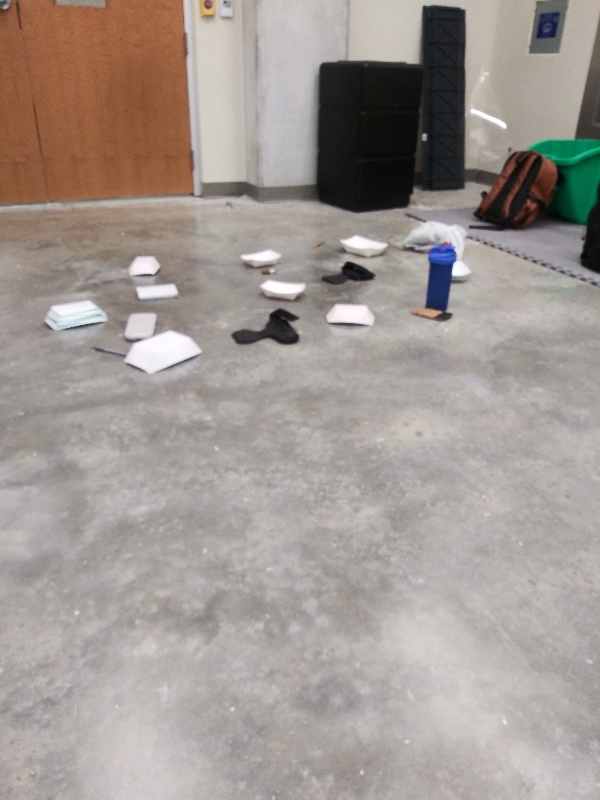plate: (119, 328, 203, 374), (41, 298, 110, 335), (322, 301, 380, 331), (336, 230, 390, 259), (236, 246, 288, 270), (256, 278, 310, 301), (125, 252, 166, 278), (444, 253, 473, 285)
